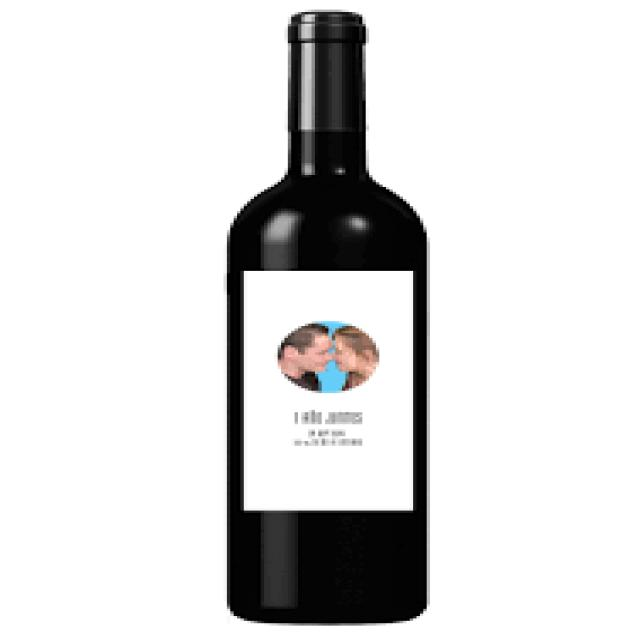Vidrio: (205, 1, 442, 632)
